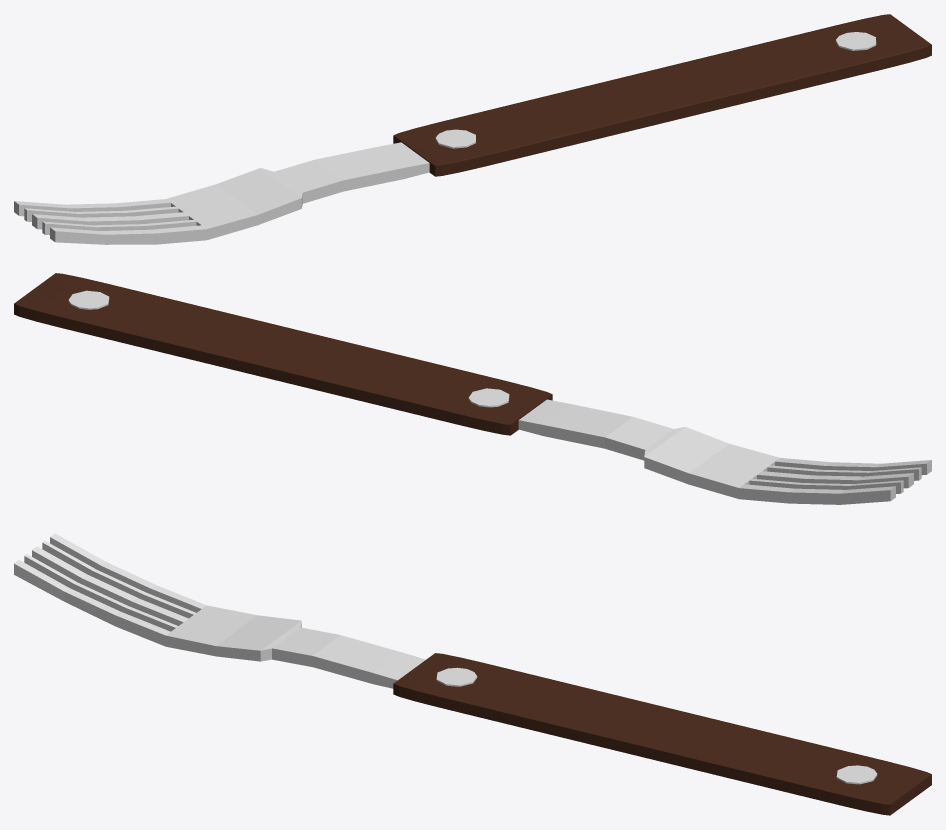
The model's file is Kitchen_SmallProps_Fork.fbx.
3 renders of one model, top to bottom at view 1: azimuth 30°, elevation 25°; view 2: azimuth 150°, elevation 25°; view 3: azimuth 330°, elevation 25°, orthographic.
Visible parts, largest first — view 1: Handle, Fork, Mutter.001, Mutter2.001; view 2: Handle, Fork, Mutter.001, Mutter2.001; view 3: Handle, Fork, Mutter2.001, Mutter.001.
Boxes of the visible parts, x1,y1,x2,y2 form: Handle: (393,14,931,176); Fork: (14,142,429,244); Mutter.001: (435,129,475,148); Mutter2.001: (836,32,876,50); Handle: (14,273,552,435); Fork: (518,399,931,504); Mutter.001: (468,388,509,407); Mutter2.001: (68,290,109,309); Handle: (393,653,931,815); Fork: (14,533,425,688); Mutter2.001: (836,765,877,784); Mutter.001: (436,667,477,686).
Bounding box in the file's own units: 24.55 × 1.24 × 2.23.
